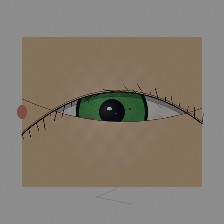foreign_body_visible: (79, 114, 99, 130)
